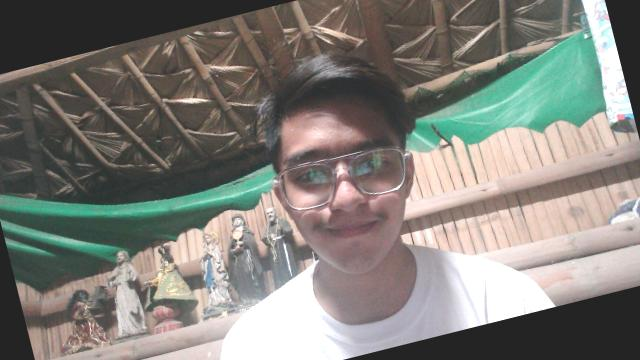senang: (244, 65, 438, 293)
